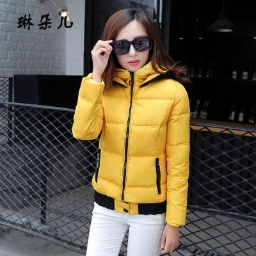face: (98, 7, 169, 83)
